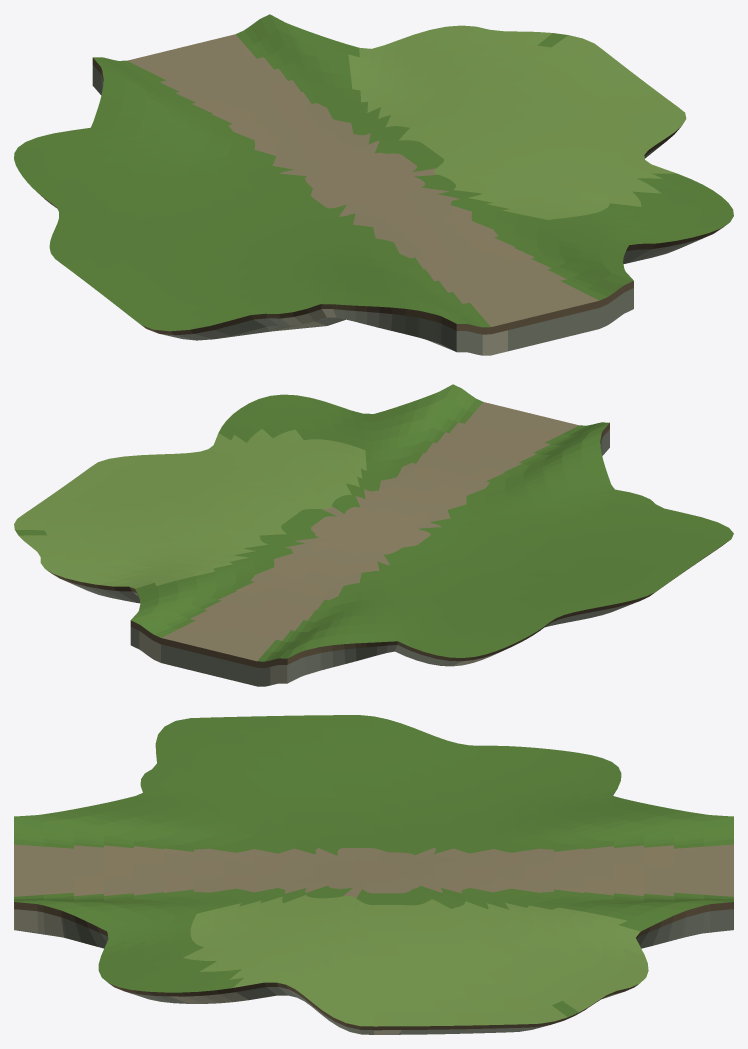
The model's file is ancient_oak_structure.fbx.
3 renders of one model, top to bottom at view 1: azimuth 30°, elevation 25°; view 2: azimuth 150°, elevation 25°; view 3: azimuth 270°, elevation 25°, orthographic. The views are drawn at different scales.
Parts seen in each view (by area): view 1: chunk_ancient_oak; view 2: chunk_ancient_oak; view 3: chunk_ancient_oak.
Boxes of the visible parts, <box> form: chunk_ancient_oak: <box>14,14,733,355</box>; chunk_ancient_oak: <box>14,384,733,686</box>; chunk_ancient_oak: <box>14,715,733,1034</box>.
Bounding box in the file's own units: 256 × 41.5 × 256.
